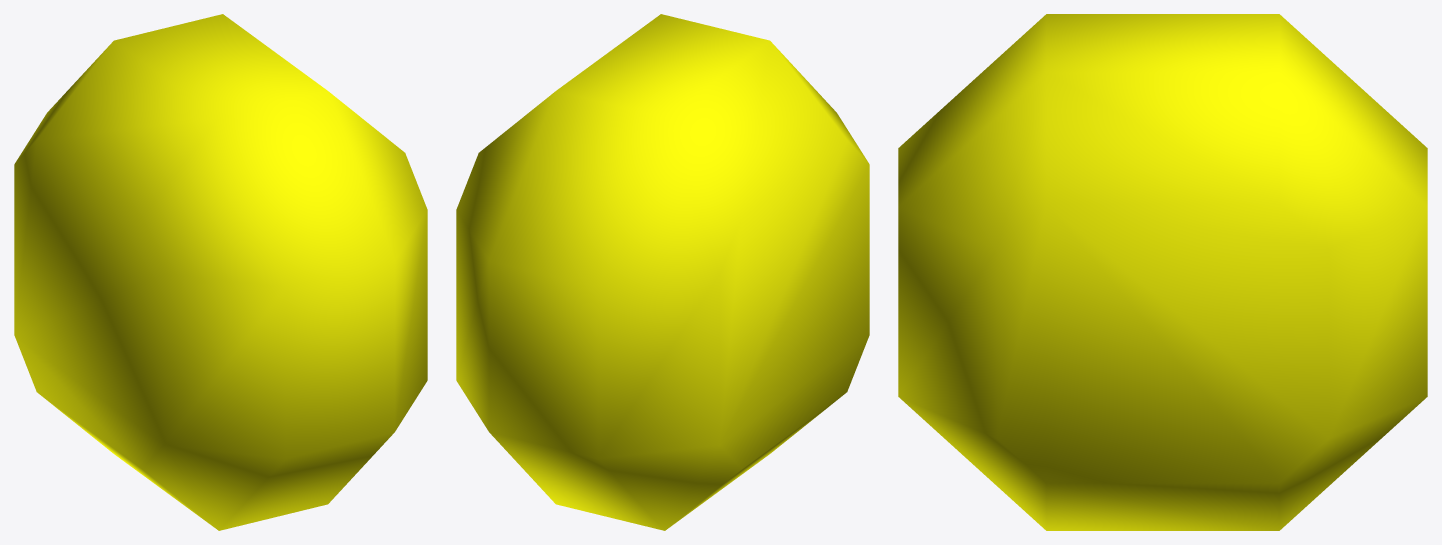
The model's file is Link4.bbox.gltf.
The picture shows the model from 3 angles, left to right: view 1: azimuth 30°, elevation 25°; view 2: azimuth 150°, elevation 25°; view 3: azimuth 270°, elevation 25°; orthographic projection. The views are drawn at different scales.
Parts seen in each view (by area): view 1: Link4.bbox; view 2: Link4.bbox; view 3: Link4.bbox.
Boxes of the visible parts, <box> form: Link4.bbox: <box>14,14,427,530</box>; Link4.bbox: <box>456,14,869,530</box>; Link4.bbox: <box>898,14,1427,530</box>.
Size of the model in its own units: 0.071 by 0.1065 by 0.1115.
